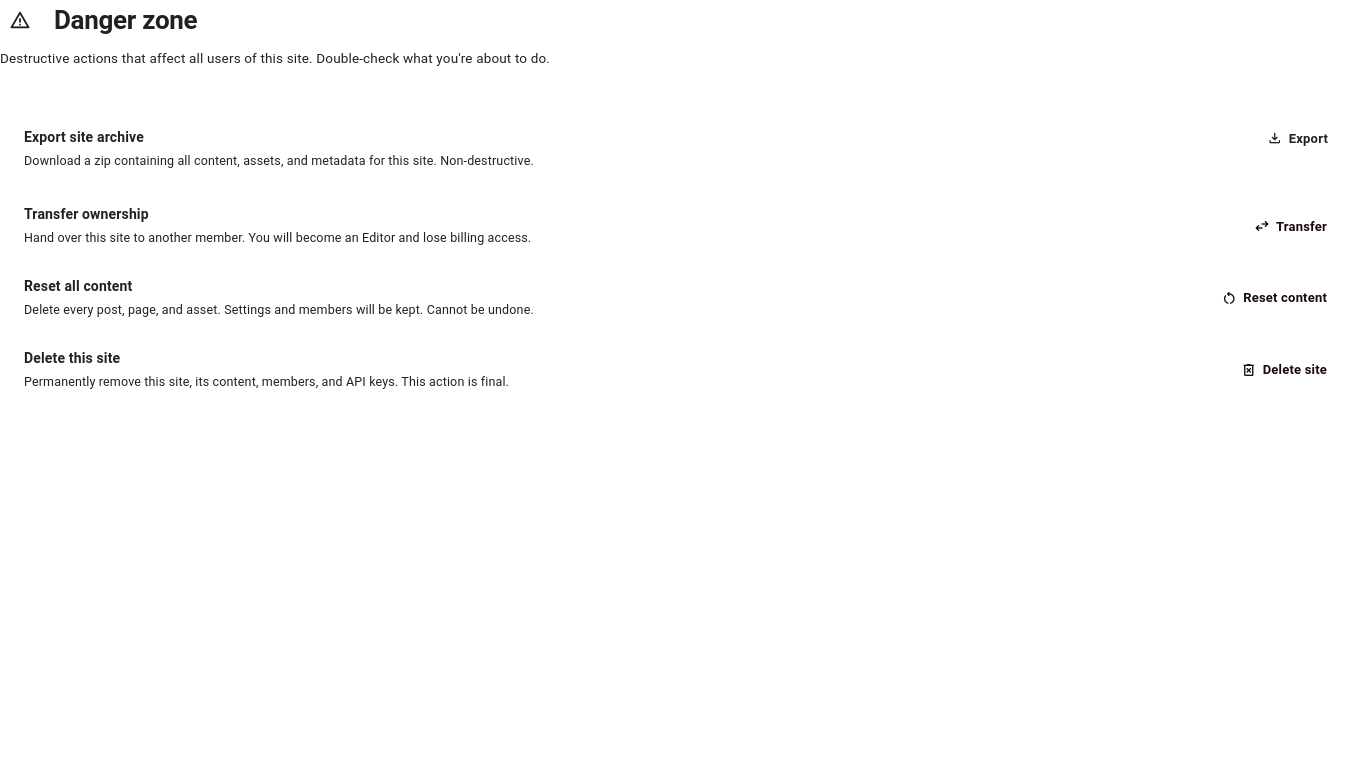
Test: DangerZonePage — Transfer Ownership › validation: Continue stays disabled until a member is selected
The image size is (1366, 768).
Click the button with test id "site-settings.danger.action.transferOwnership" at (1290, 226), box [1239,210,1342,242]
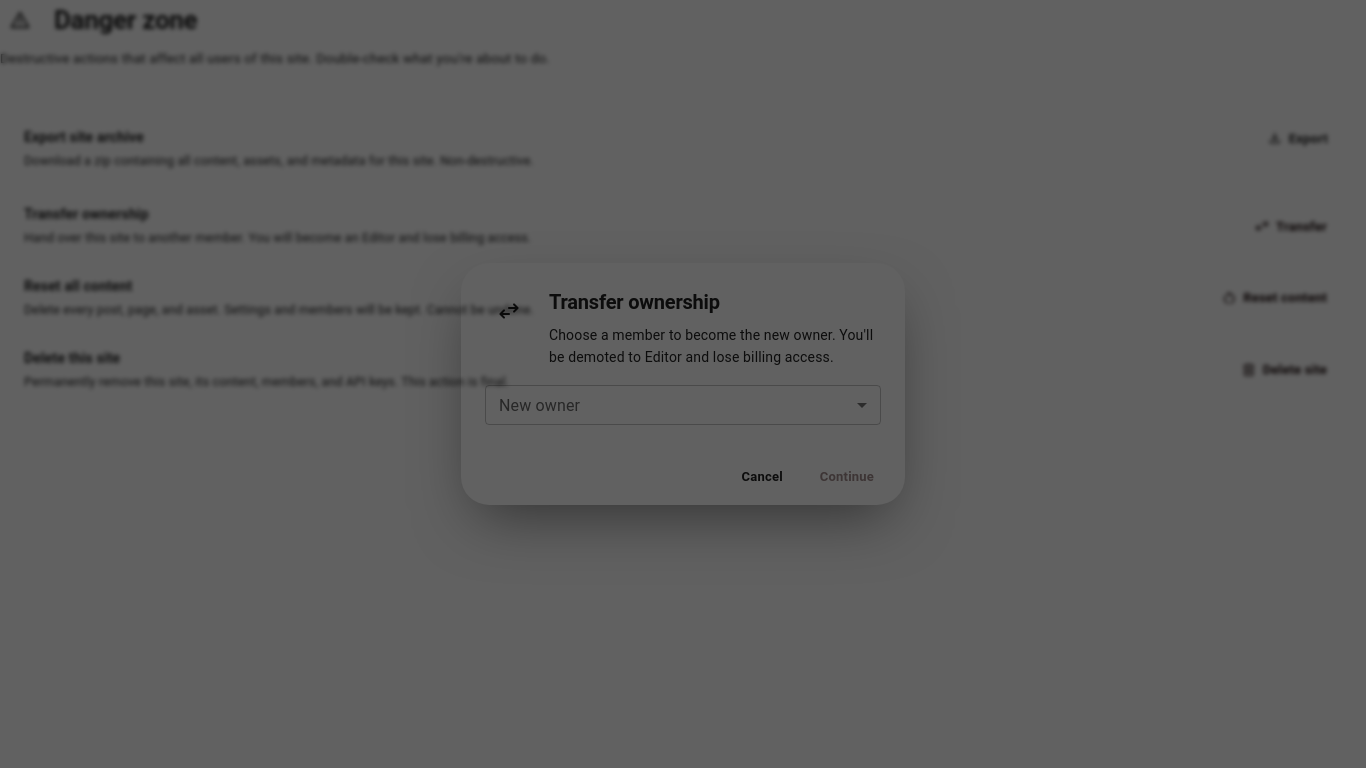
Check: the element with test id "transfer-ownership.picker" is shown
Check: the button with test id "transfer-ownership.continue" is disabled, box [805,461,889,493]
